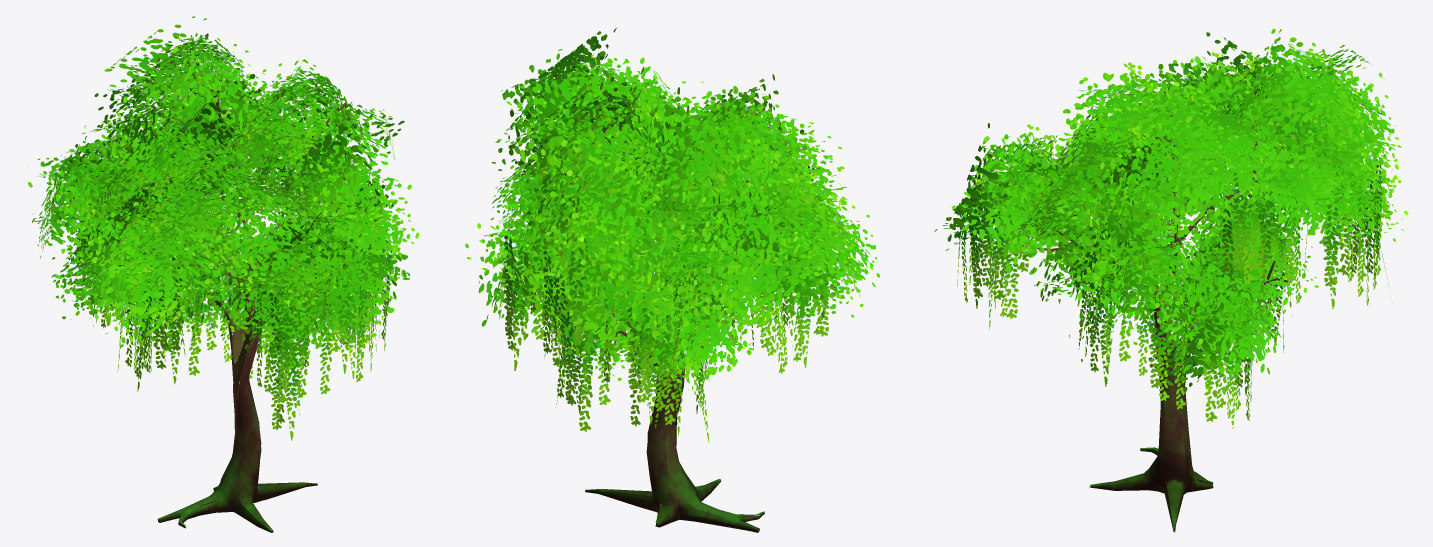
File: tree.fbx
The picture shows the model from 3 angles, left to right: view 1: azimuth 30°, elevation 25°; view 2: azimuth 150°, elevation 25°; view 3: azimuth 270°, elevation 25°; orthographic projection. The views are drawn at different scales.
Visible parts, largest first — view 1: Plane_337, Plane_474, Plane_495_8_0; view 2: Plane_337, Plane_474, Plane_495_8_0; view 3: Plane_337, Plane_474, Plane_495_8_0.
Part boxes in pixels (bbox=[...]): Plane_337: bbox=[28, 16, 419, 375]; Plane_474: bbox=[75, 121, 391, 440]; Plane_495_8_0: bbox=[118, 80, 346, 532]; Plane_337: bbox=[465, 28, 879, 400]; Plane_474: bbox=[499, 93, 829, 442]; Plane_495_8_0: bbox=[553, 74, 801, 532]; Plane_337: bbox=[934, 28, 1408, 395]; Plane_474: bbox=[957, 159, 1392, 428]; Plane_495_8_0: bbox=[1022, 90, 1328, 532].
Bounding box in the file's own units: 408 × 481 × 450.
